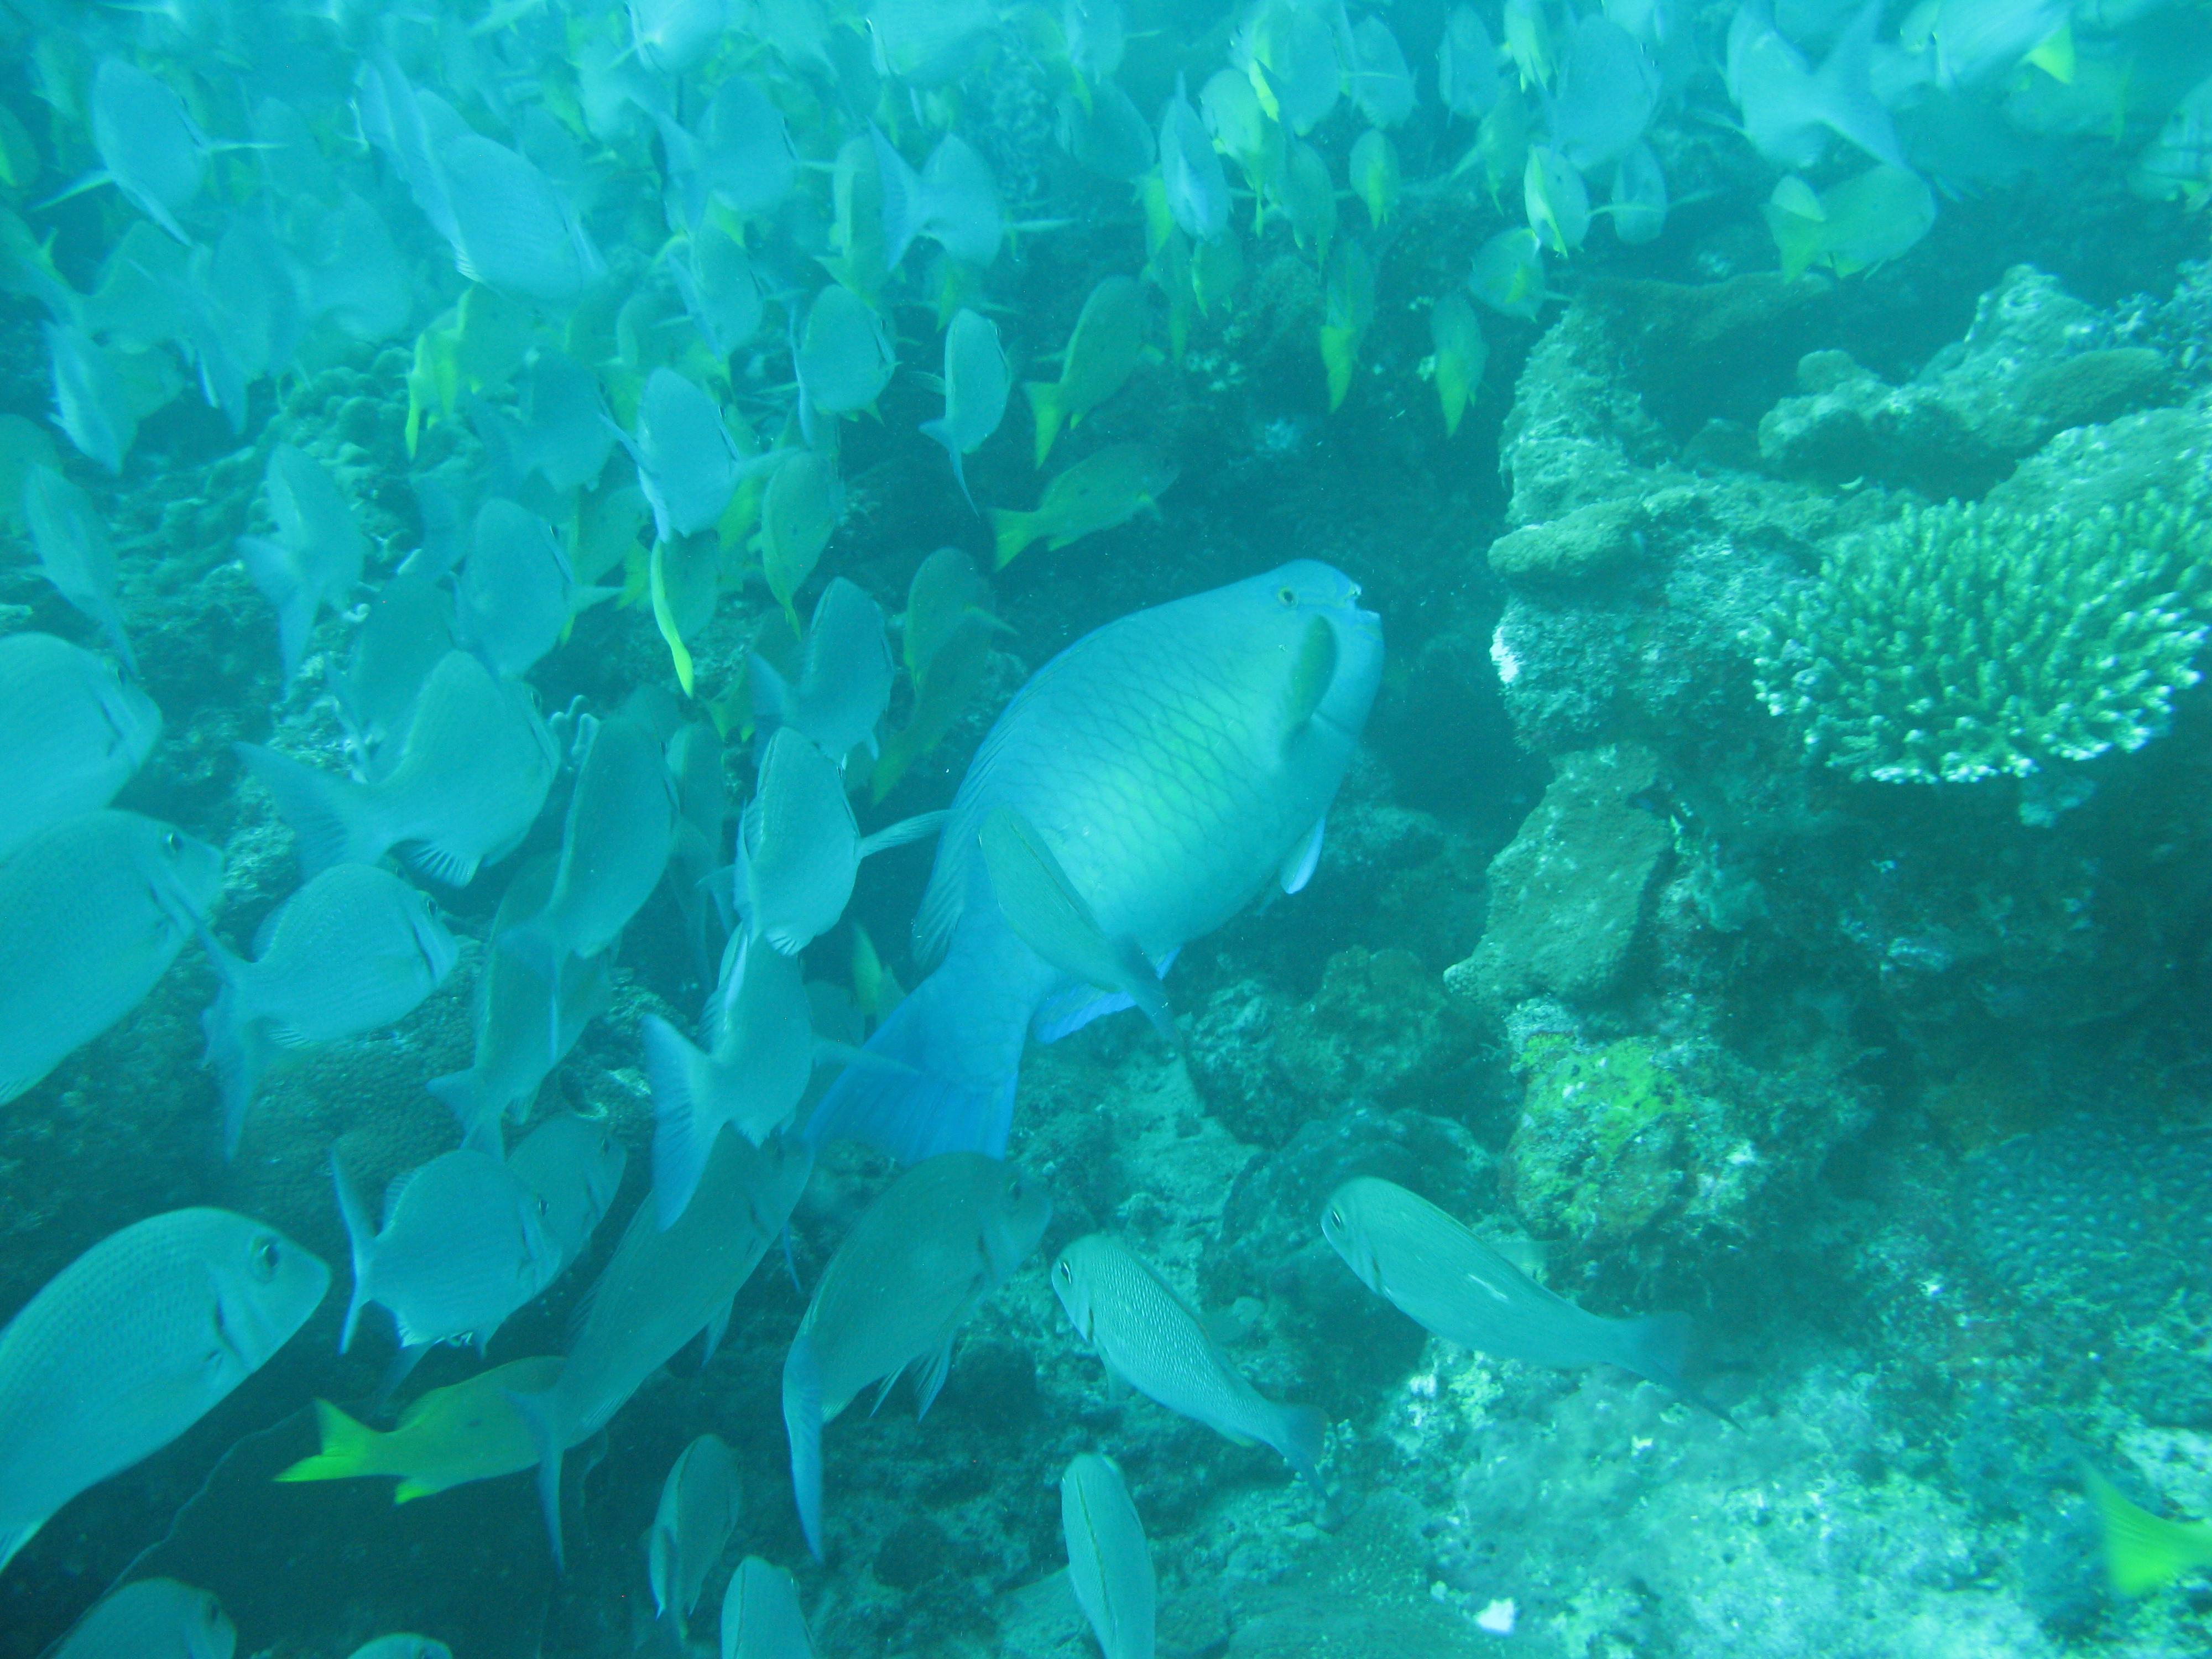Scarus rubroviolaceus: (794, 532, 1406, 1182)
